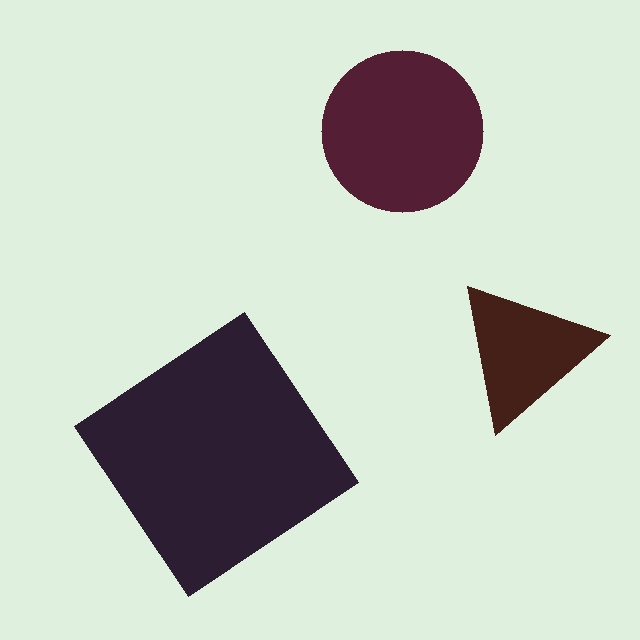circle: (320, 49, 484, 212)
square: (74, 312, 358, 596)
triangle: (466, 285, 610, 435)
